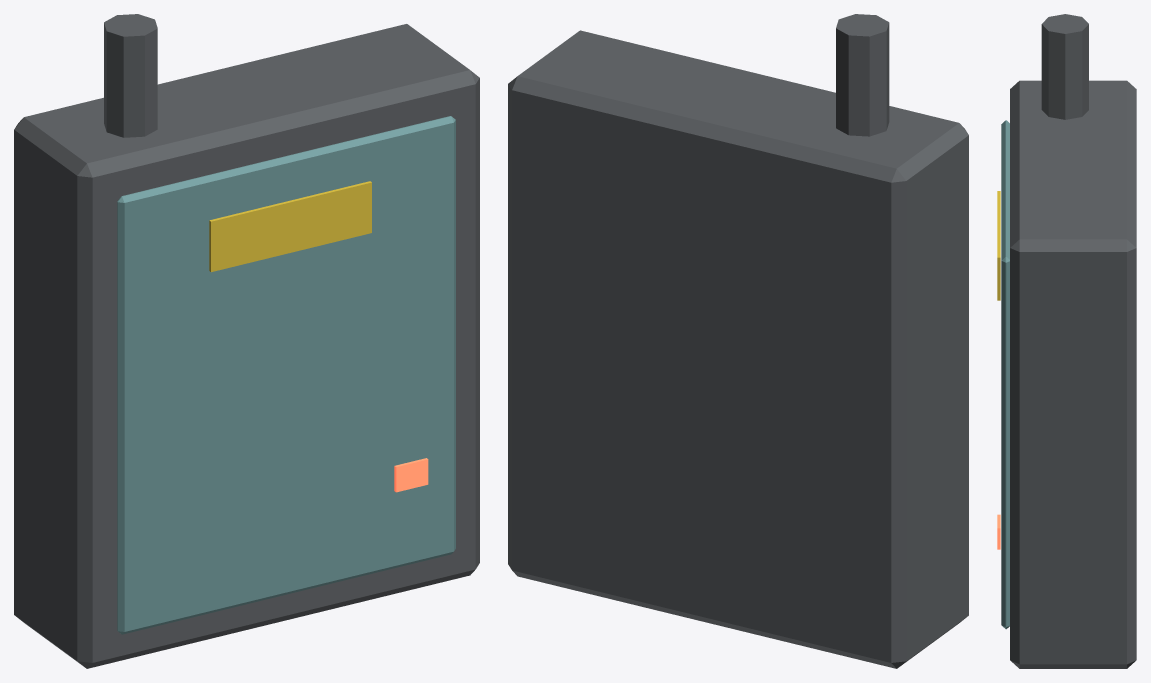
File: junction_box.glb
The picture shows the model from 3 angles, left to right: view 1: azimuth 30°, elevation 25°; view 2: azimuth 150°, elevation 25°; view 3: azimuth 270°, elevation 25°; orthographic projection. The views are drawn at different scales.
Parts seen in each view (by area): view 1: junction_box; view 2: junction_box; view 3: junction_box.
Part boxes in pixels (x1,y1,x2,y2): junction_box: (14, 14, 479, 668); junction_box: (508, 14, 968, 668); junction_box: (997, 14, 1136, 668).
Size of the model in its own units: 0.5 by 0.72 by 0.176.
